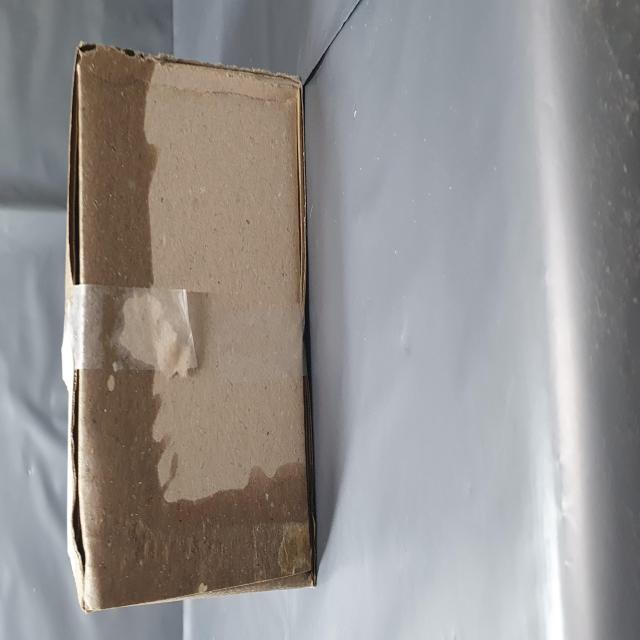wet: (16, 135, 148, 566), (202, 121, 338, 276)
